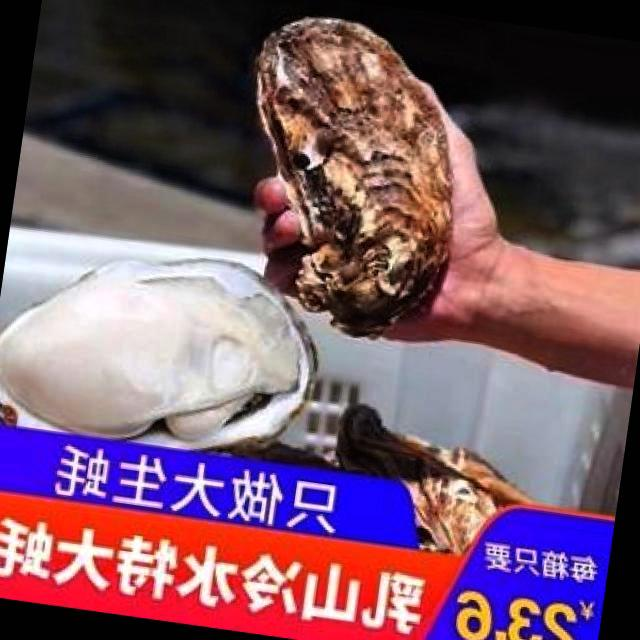Oyster-Closed: (253, 16, 454, 330), (338, 399, 530, 555)
Oyster-Open: (0, 255, 320, 450)
